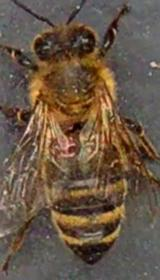varroa_mite: (45, 130, 82, 160)
